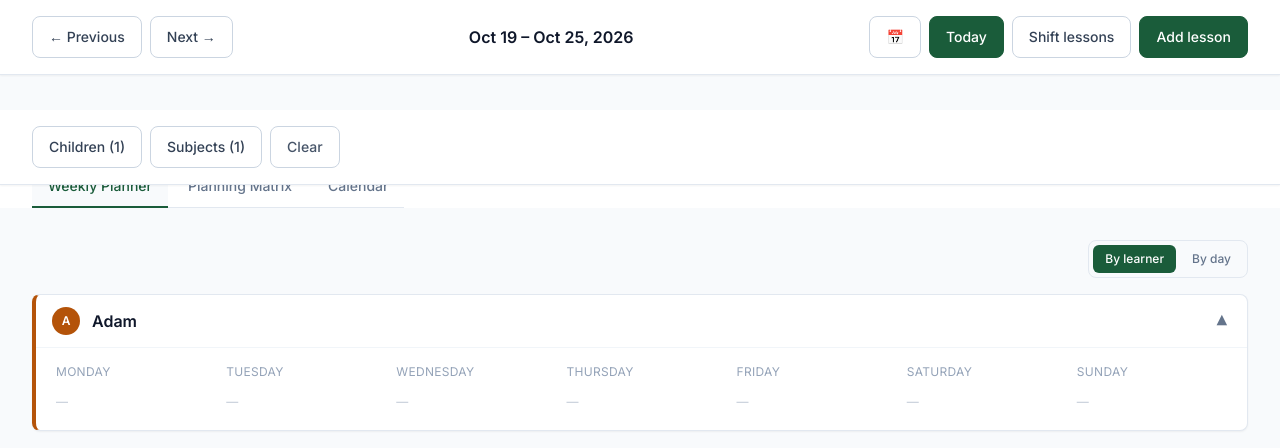
Scenario: PlannerViewToggle › selecting Weekly Planner renders the lesson-centric list view
Click the tab "Planning Matrix" at (240, 187), box [172,166,308,208]
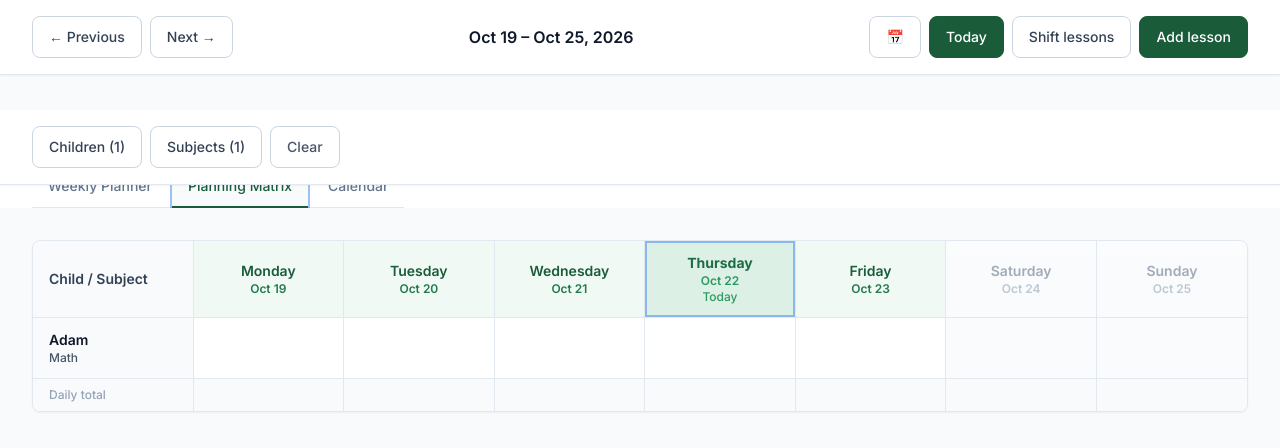
Result: the text "Child / Subject" is shown at [49,270,148,287]
Click the tab "Weekly Planner" at (100, 187), box [32,166,168,208]
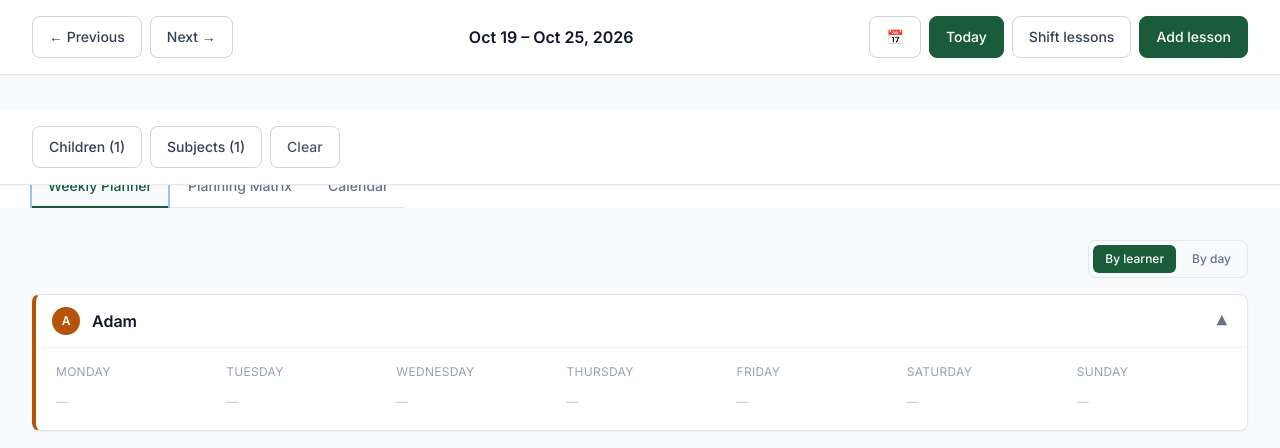
Expected: the text "Monday" is shown, [56,364,111,379]
Result: the text "Child / Subject" is gone
